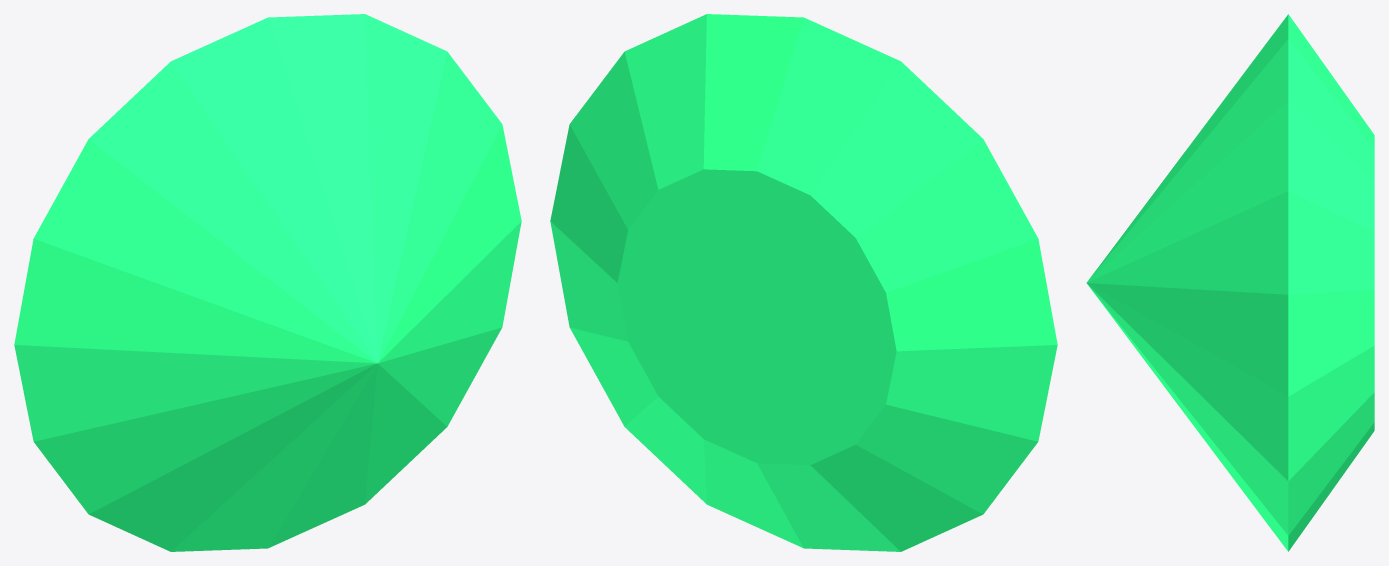
3 views of the same model, side by side, from view 1: azimuth 30°, elevation 25°; view 2: azimuth 150°, elevation 25°; view 3: azimuth 270°, elevation 25° (orthographic). The views are drawn at different scales.
Parts seen in each view (by area): view 1: glow_Gem_green; view 2: glow_Gem_green; view 3: glow_Gem_green.
Boxes of the visible parts, box(x1,y1,x2,y2) form: glow_Gem_green: box(14, 14, 521, 551); glow_Gem_green: box(550, 14, 1057, 551); glow_Gem_green: box(1086, 14, 1374, 551).
Bounding box in the file's own units: 0.9 × 0.9 × 0.4815.
